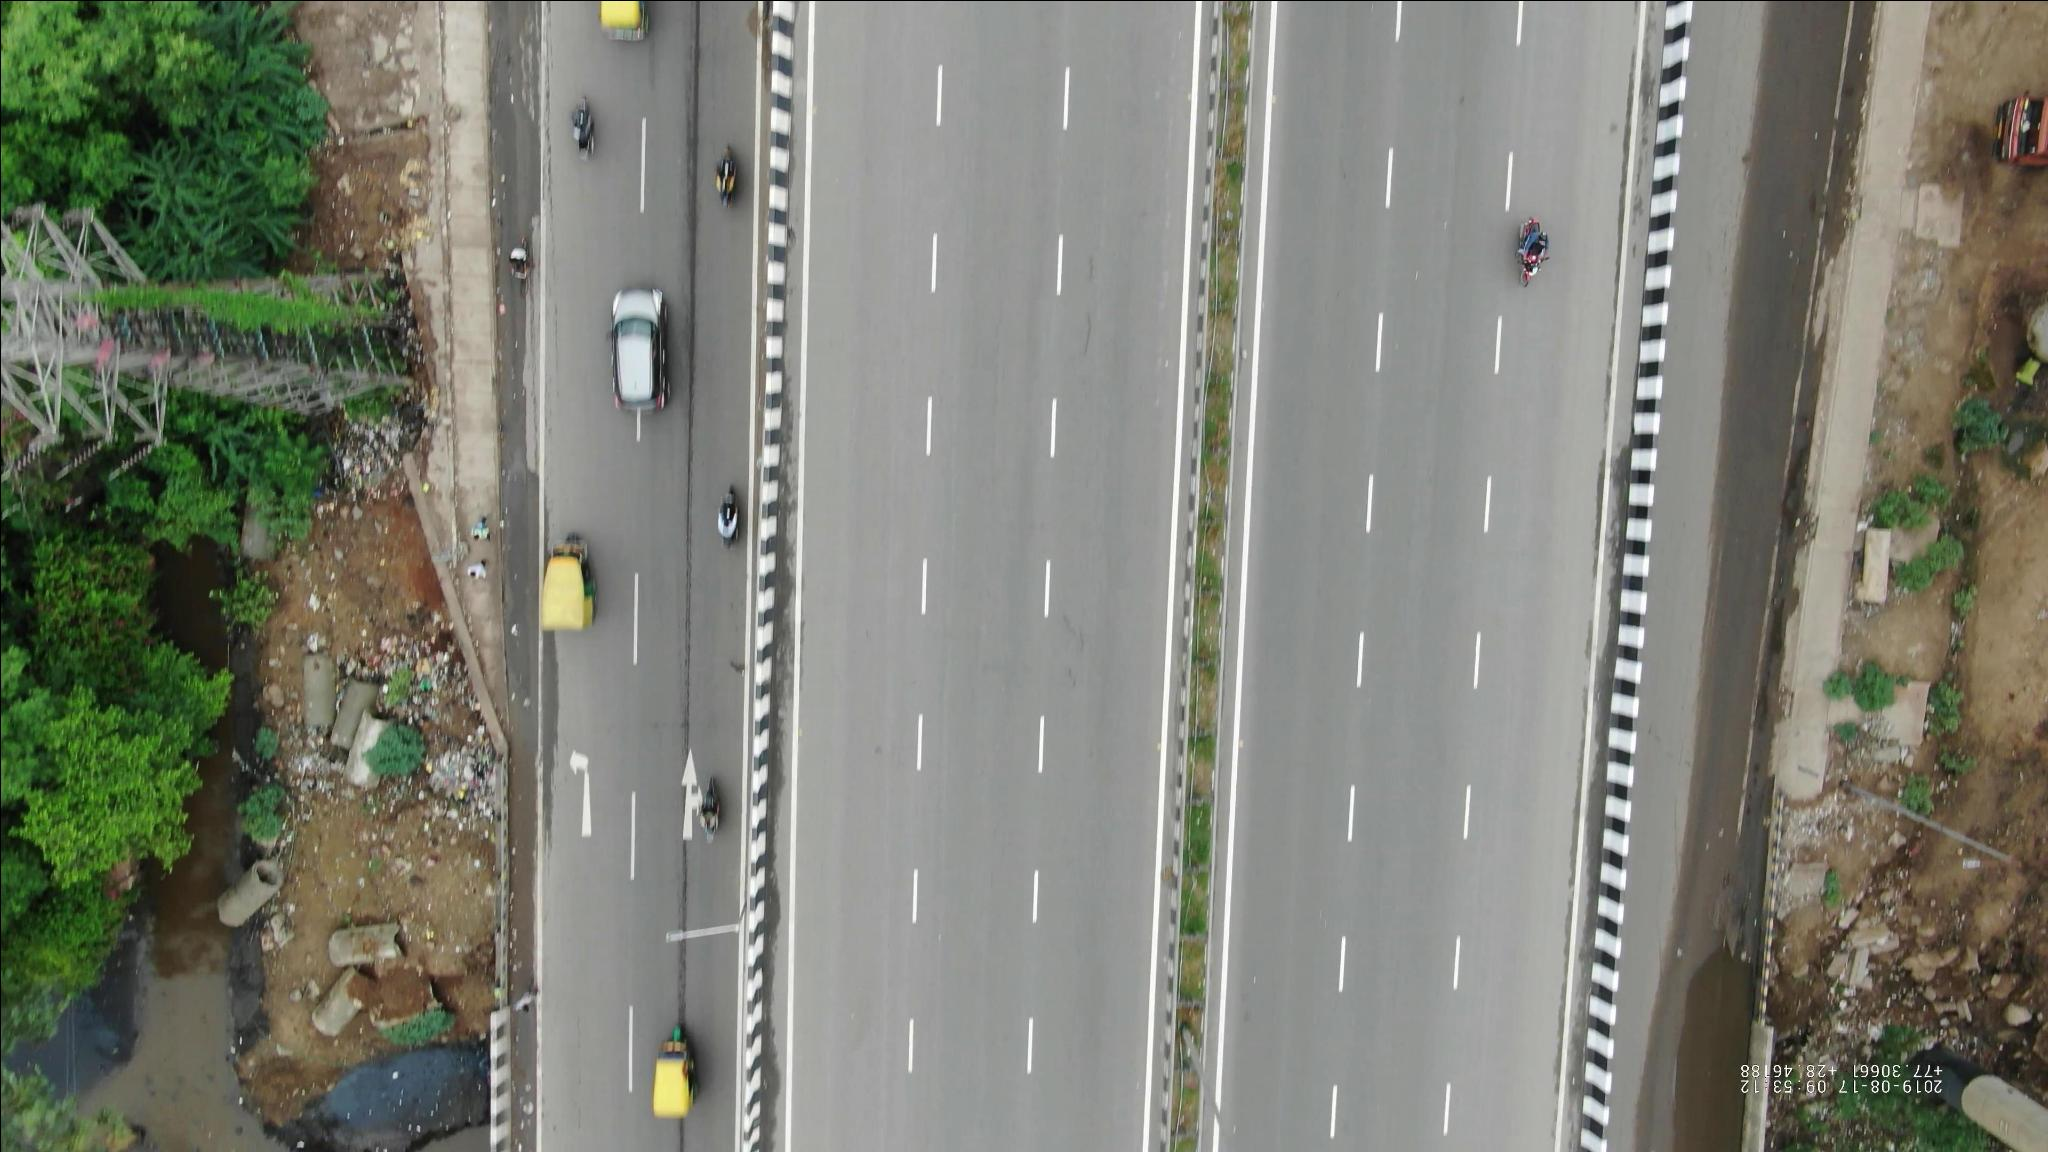Road_side_garbage: (286, 612, 519, 859), (325, 407, 450, 511)
